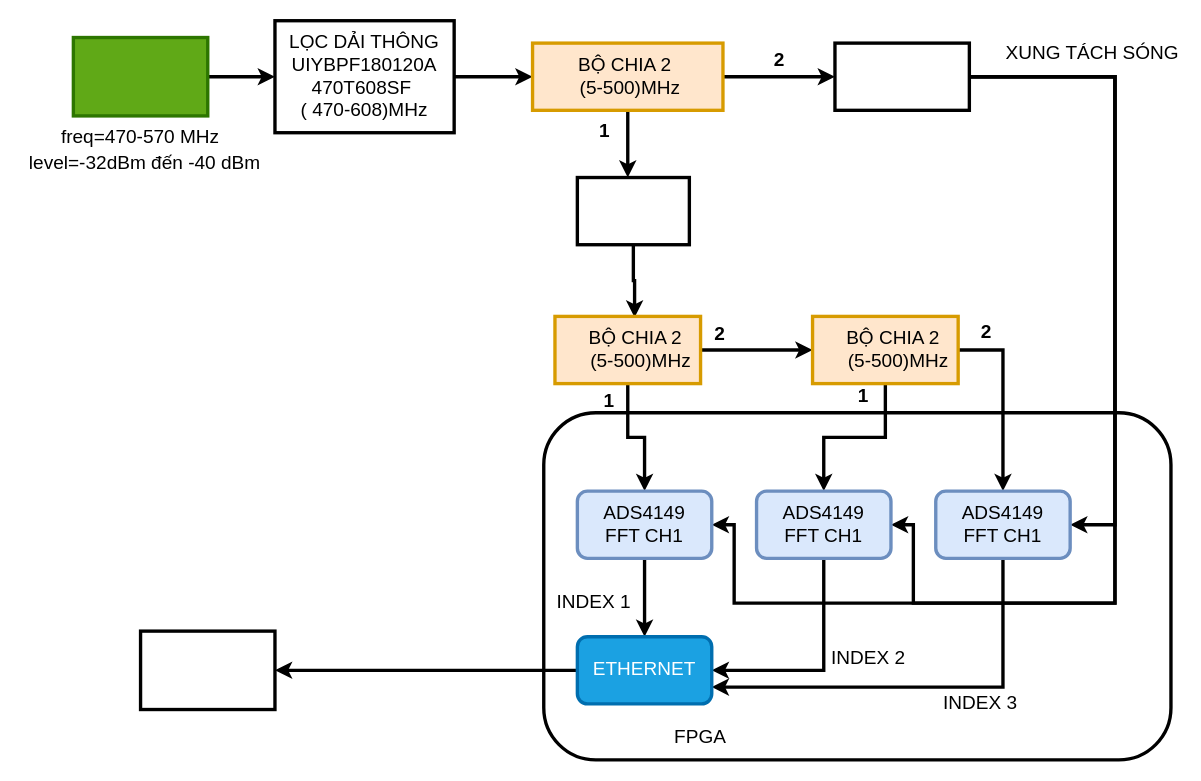
This 1201x781 diagram has some shape labels left out. The centre of each missing label's shape, as x and y in pixels:
LỌC DC-1700 MHz: the point at 632,210
MÁY TÍNH: the point at 207,670
TÁCH SÓNG: the point at 901,76
VGS25A: the point at 140,76
